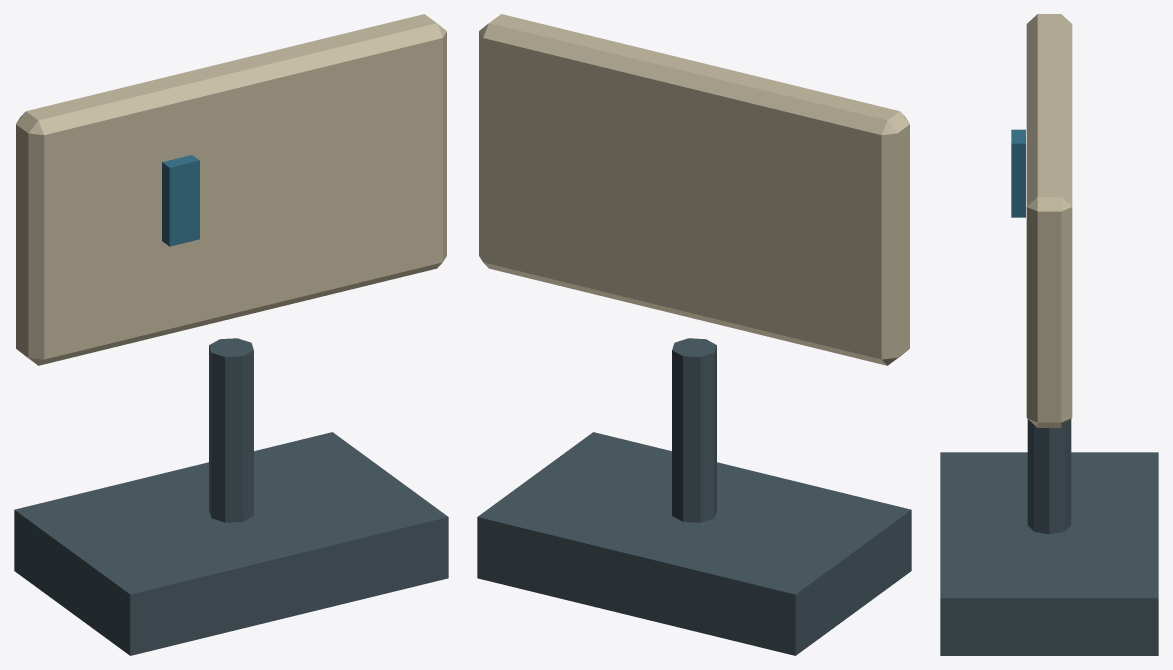
File: set_information_holder.glb
3 renders of one model, left to right at view 1: azimuth 30°, elevation 25°; view 2: azimuth 150°, elevation 25°; view 3: azimuth 270°, elevation 25°, orthographic. The views are drawn at different scales.
Visible parts, largest first — view 1: set_information_holder; view 2: set_information_holder; view 3: set_information_holder.
Part boxes in pixels (x1,y1,x2,y2): set_information_holder: (14, 14, 448, 655); set_information_holder: (477, 14, 911, 655); set_information_holder: (940, 14, 1158, 655).
Bounding box in the file's own units: 0.25 × 0.2895 × 0.12.
